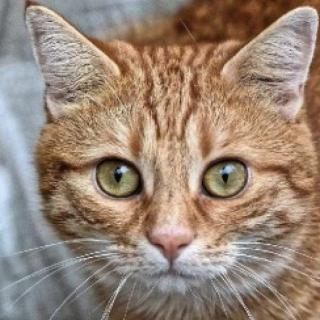cat: (19, 0, 320, 302)
nose: (142, 211, 199, 268)
